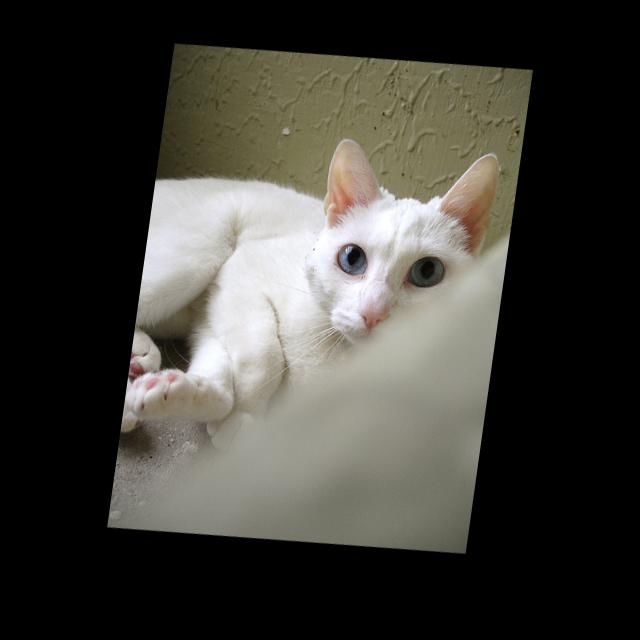animals: (314, 135, 492, 350)
